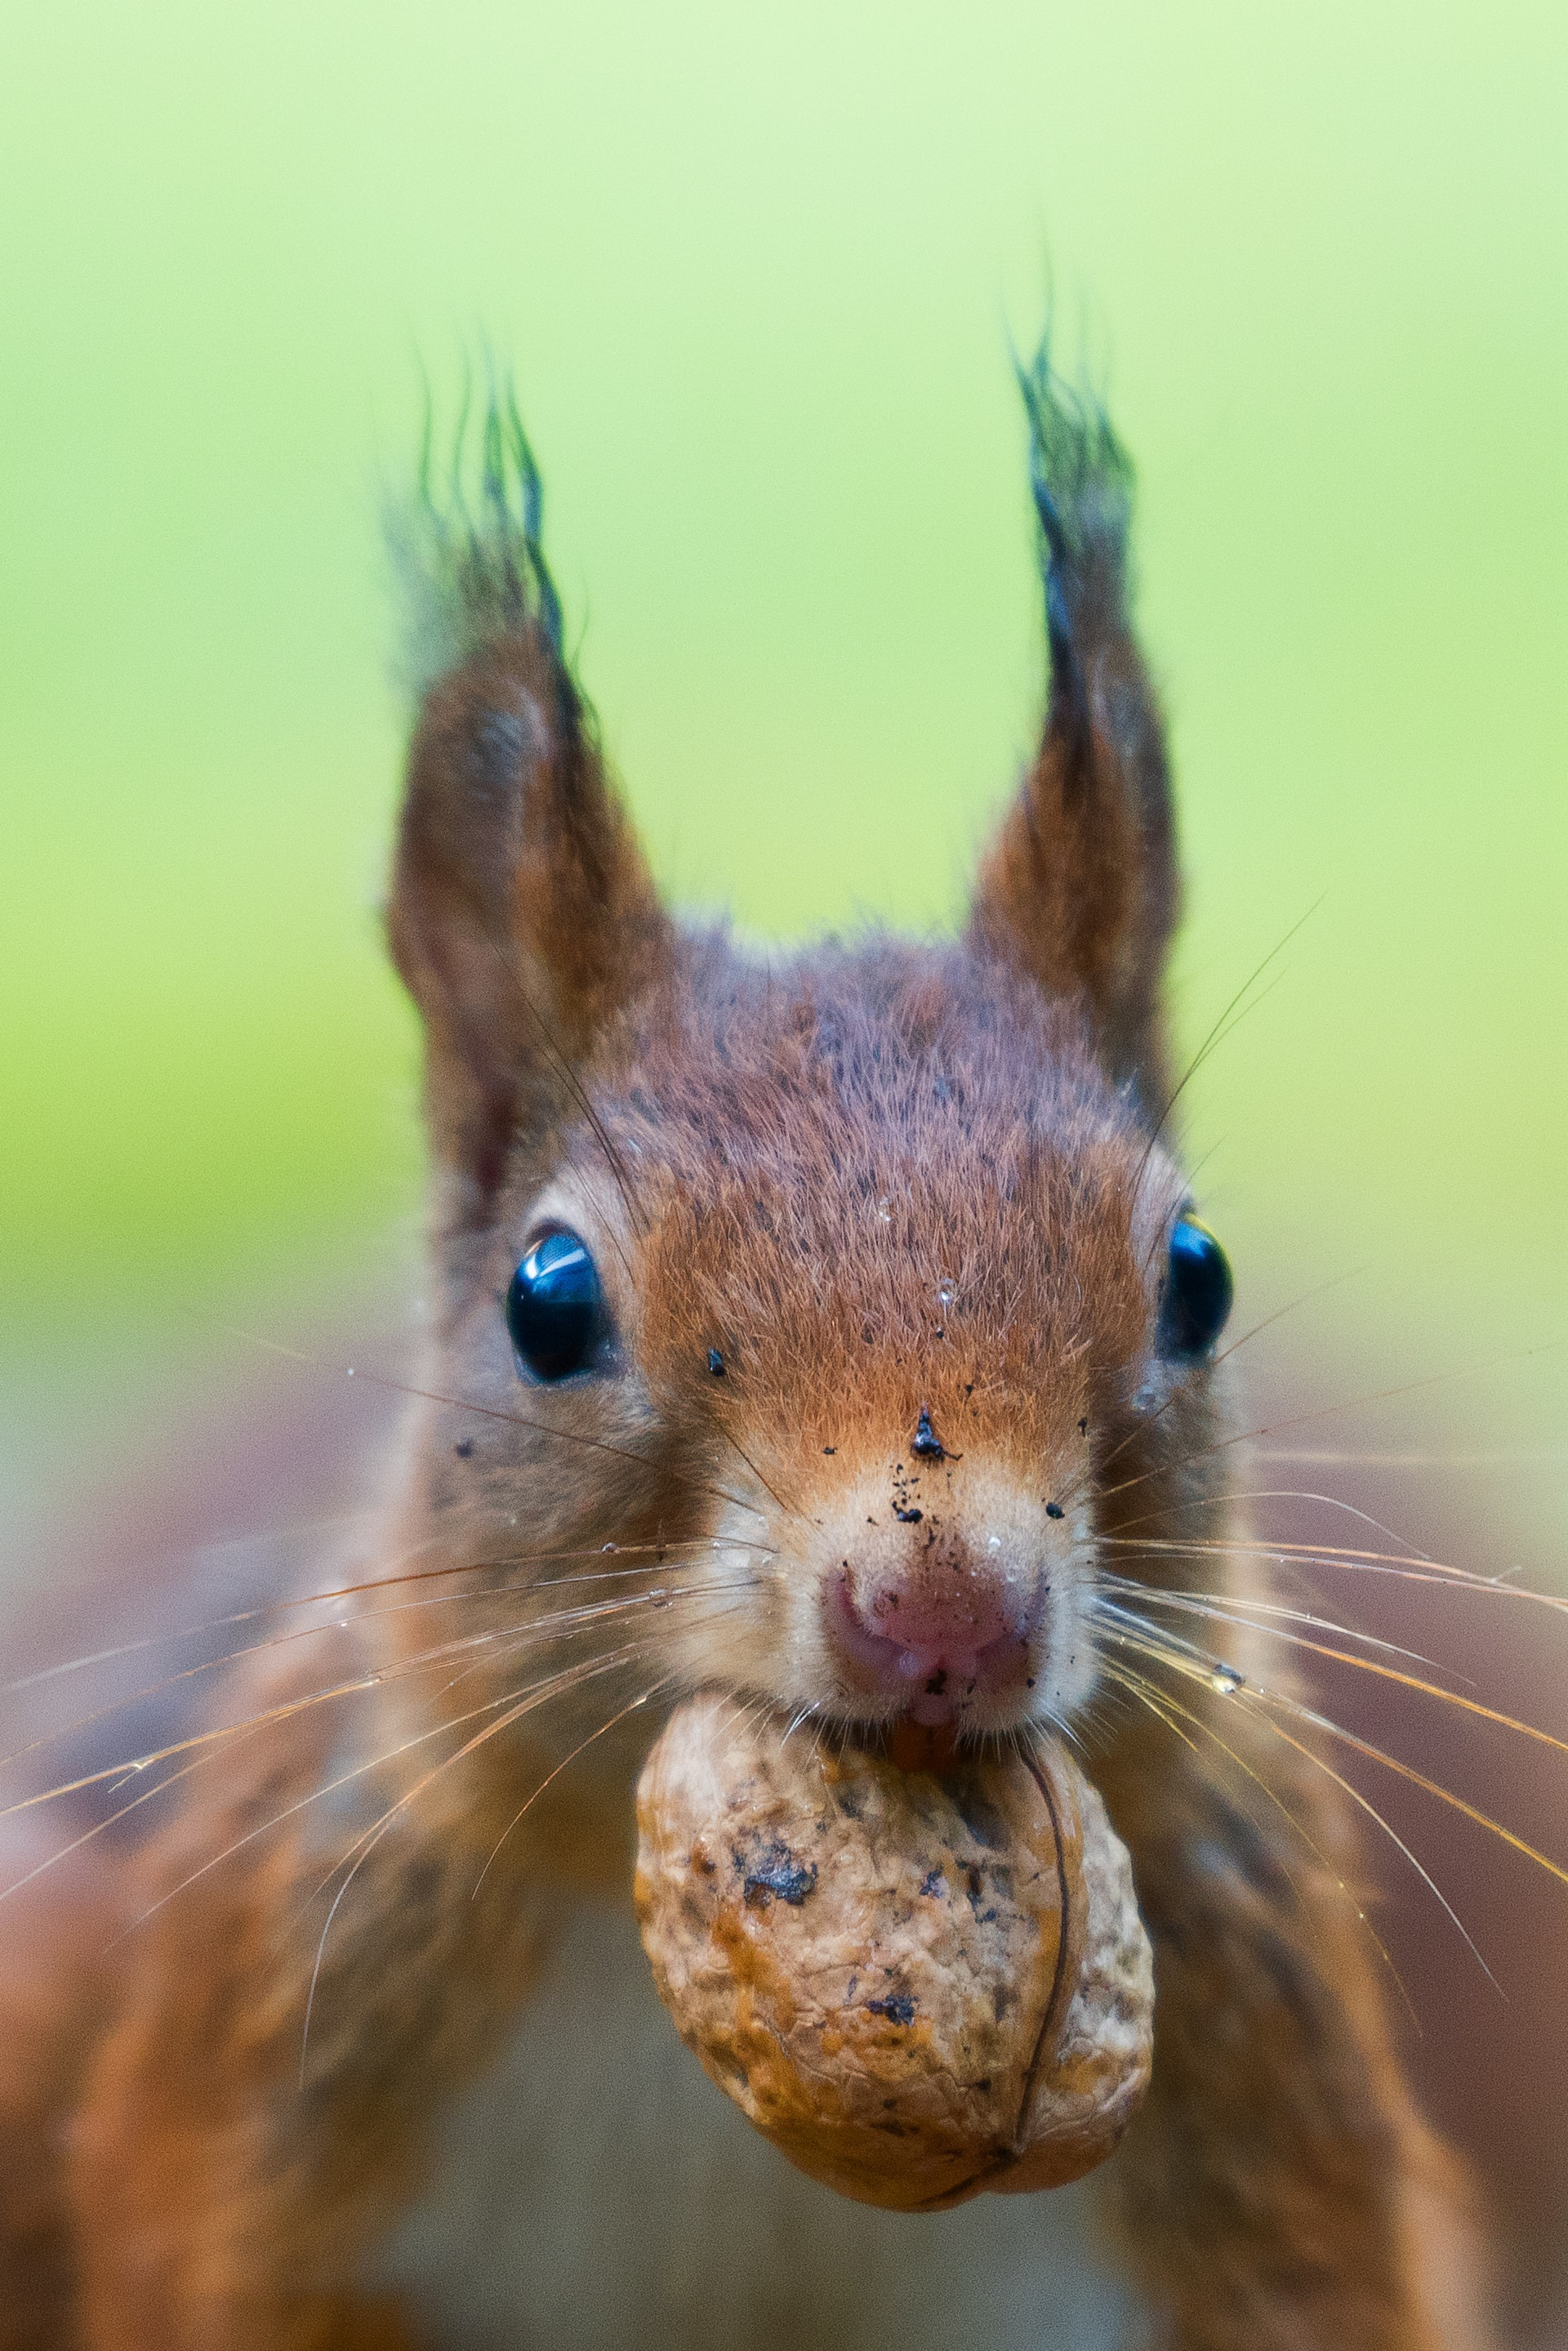squirrel: (7, 320, 1568, 2351)
